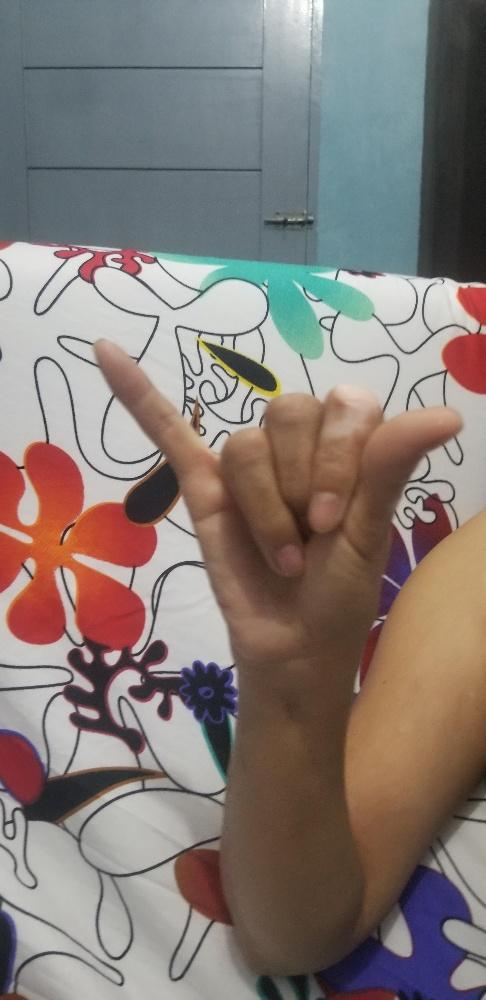y: (90, 334, 465, 669)
